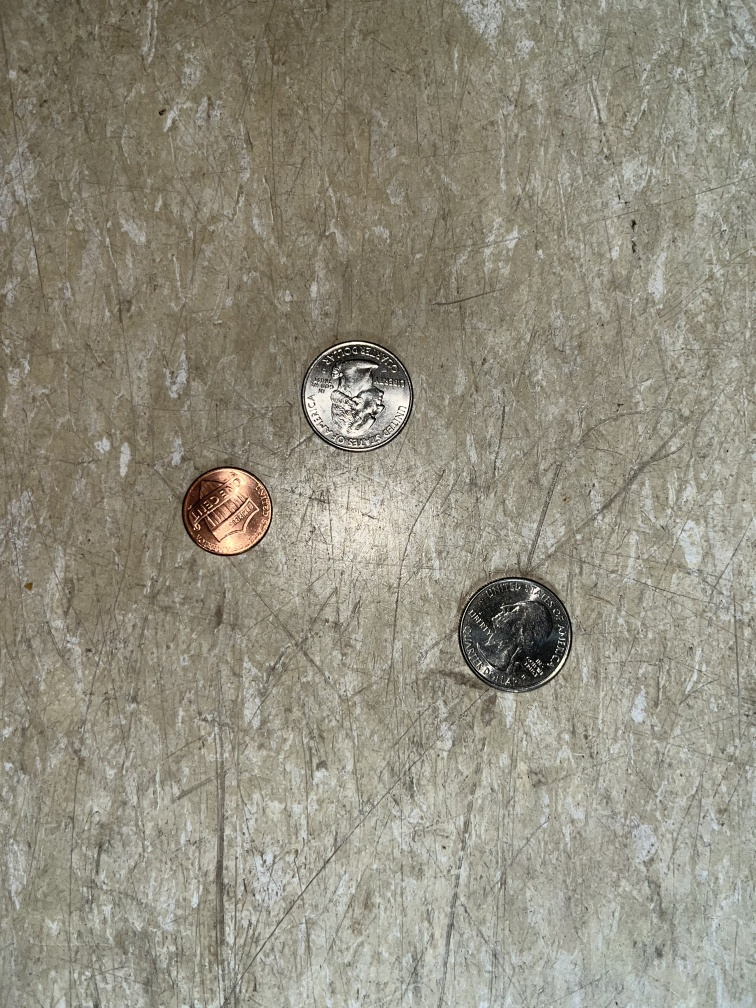penny: (167, 457, 282, 566)
quarter: (448, 572, 579, 701), (290, 334, 421, 458)
